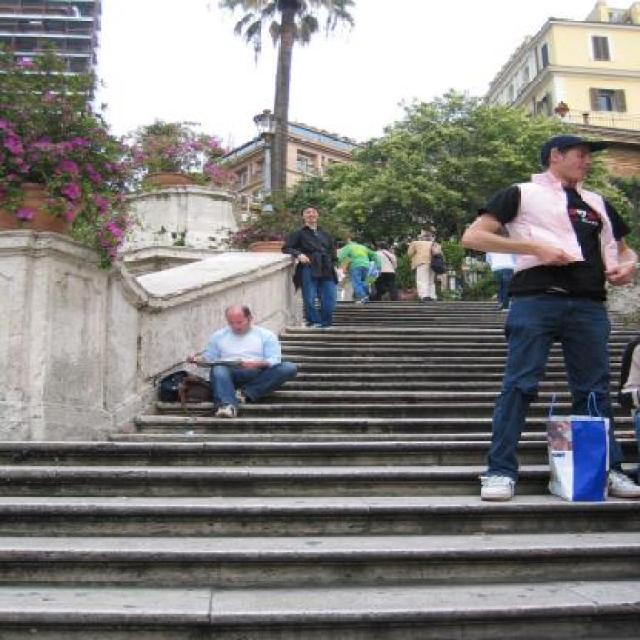stair: (0, 297, 640, 640)
